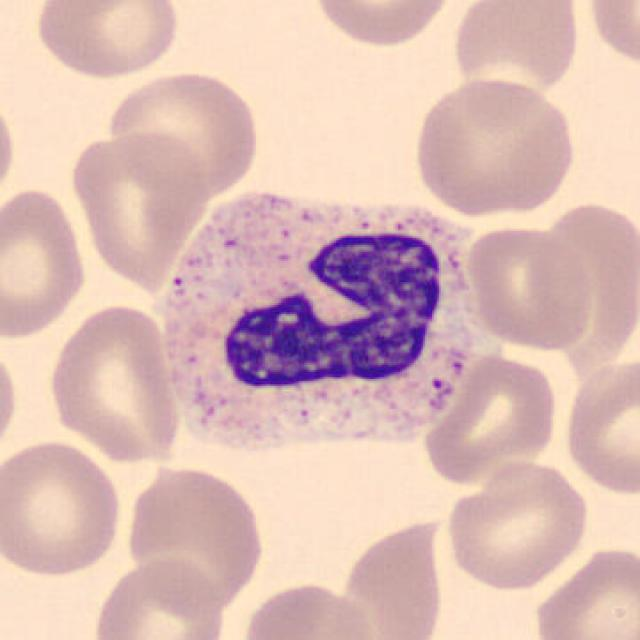Neutrophil: (151, 178, 485, 473)
RBC: (409, 74, 579, 219), (42, 300, 186, 467), (121, 460, 268, 614), (66, 129, 208, 287), (442, 455, 594, 592), (105, 67, 263, 197), (523, 195, 640, 367), (419, 348, 562, 488), (0, 435, 124, 580), (460, 222, 596, 353), (336, 513, 450, 640), (0, 183, 91, 342), (448, 0, 583, 99), (32, 0, 185, 81), (88, 553, 227, 640), (560, 353, 640, 499), (530, 541, 638, 640), (238, 576, 380, 640), (307, 0, 458, 49), (583, 0, 638, 74), (0, 337, 21, 462), (0, 86, 20, 212)
